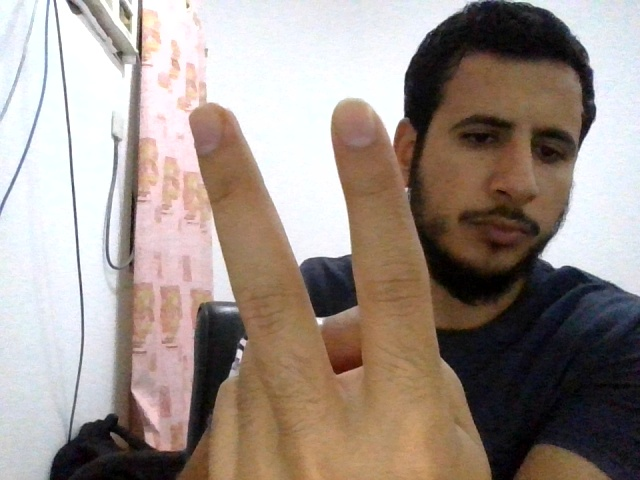Two: (187, 99, 483, 480)
